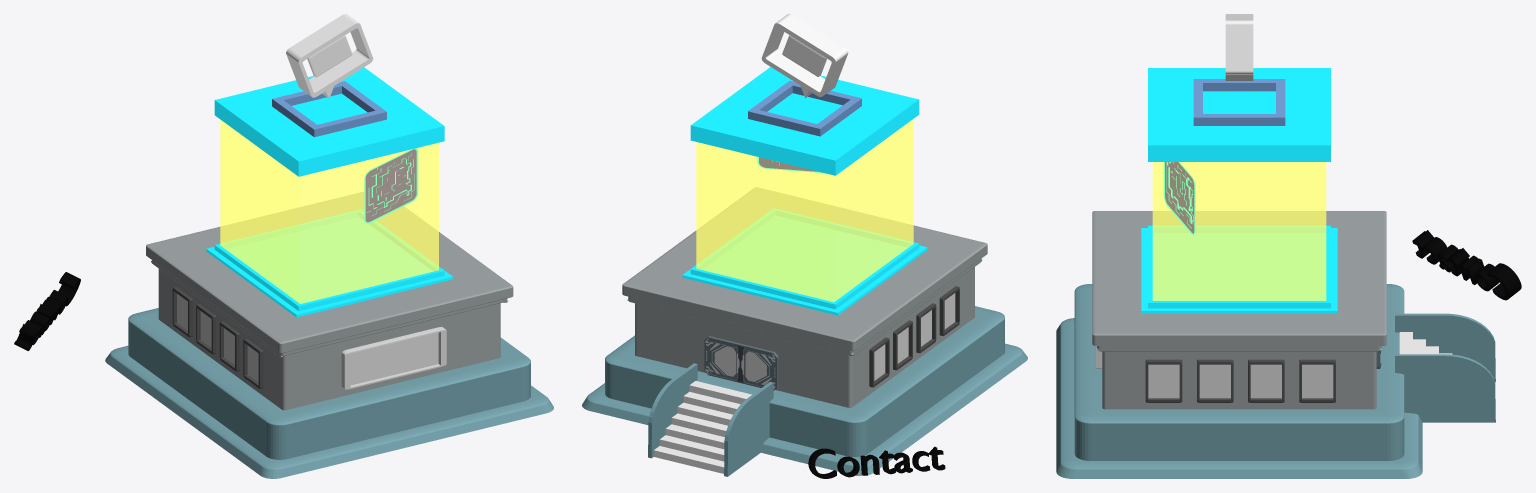
File: building1.glb
3 renders of one model, left to right at view 1: azimuth 30°, elevation 25°; view 2: azimuth 150°, elevation 25°; view 3: azimuth 270°, elevation 25°, orthographic. The views are drawn at different scales.
Visible parts, largest first — view 1: Building1.etage, Building1.floor, Building1.digitalWindow, Building1.digitalWindowBorder, Building1.windowBack, Building1.letter, Building1.etageWindow, Building1.screen3, Building1.top, Building1.text; view 2: Building1.etage, Building1.digitalWindow, Building1.digitalWindowBorder, Building1.floor, Building1.stairs, Building1.stairsHolding, Building1.letter, Building1.etageWindow, Building1.door, Building1.top, Building1.text; view 3: Building1.etage, Building1.floor, Building1.digitalWindowBorder, Building1.digitalWindow, Building1.stairsHolding, Building1.etageWindow, Building1.text, Building1.top, Building1.letter, Building1.screen3, Building1.stairs.
Part boxes in pixels (x1,y1,x2,y2): Building1.etage: (146, 192, 513, 410); Building1.floor: (105, 308, 553, 478); Building1.digitalWindow: (220, 119, 438, 303); Building1.digitalWindowBorder: (206, 67, 452, 317); Building1.windowBack: (341, 327, 446, 390); Building1.letter: (286, 14, 373, 98); Building1.etageWindow: (172, 287, 263, 388); Building1.screen3: (364, 148, 418, 223); Building1.top: (272, 81, 386, 137); Building1.text: (14, 272, 80, 350); Building1.etage: (622, 187, 987, 407); Building1.digitalWindow: (696, 119, 913, 301); Building1.digitalWindowBorder: (682, 67, 927, 315); Building1.floor: (582, 306, 1027, 475); Building1.stairs: (653, 381, 751, 473); Building1.stairsHolding: (648, 363, 773, 476); Building1.letter: (761, 14, 848, 98); Building1.etageWindow: (869, 286, 959, 387); Building1.door: (704, 336, 778, 390); Building1.top: (748, 81, 861, 136); Building1.text: (808, 446, 945, 478); Building1.etage: (1092, 211, 1386, 409); Building1.floor: (1056, 284, 1422, 478); Building1.digitalWindowBorder: (1141, 68, 1337, 313); Building1.digitalWindow: (1152, 162, 1326, 300); Building1.stairsHolding: (1395, 313, 1495, 422); Building1.etageWindow: (1145, 359, 1335, 402); Building1.text: (1412, 230, 1521, 300); Building1.top: (1193, 79, 1285, 125); Building1.letter: (1225, 14, 1253, 80); Building1.screen3: (1163, 162, 1195, 235); Building1.stairs: (1399, 332, 1452, 354).
Size of the model in its own units: 10.27 by 9.45 by 10.16.
